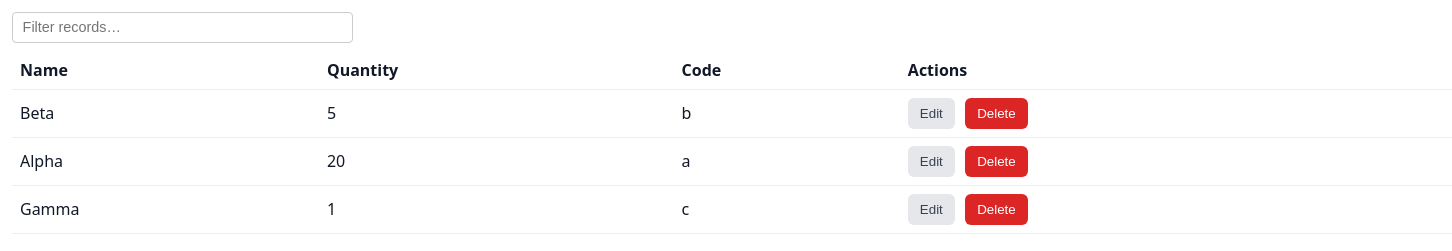
Test: TableComponent › with the shared sorting and filtering › orders numeric columns by value and moves the sort to another column
Step 1. Click the column heading "Quantity" → click(496, 70), box [319,51,674,89]
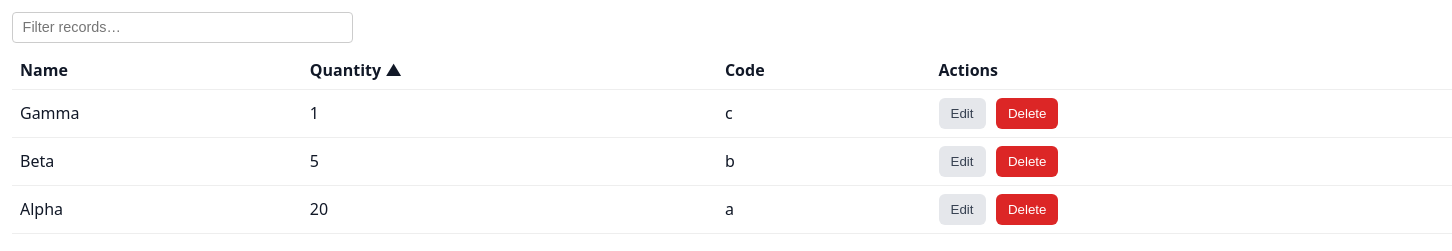
Expected: the column heading "Quantity ▲" is shown, [302,51,717,89]
Step 2. Click the column heading "Name" → click(157, 70), box [12,51,302,89]
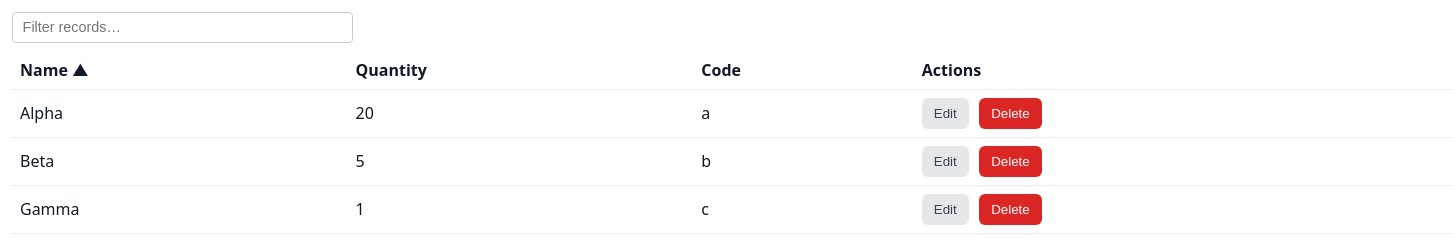
Expected: the column heading "Quantity" is shown, [348,51,693,89]
